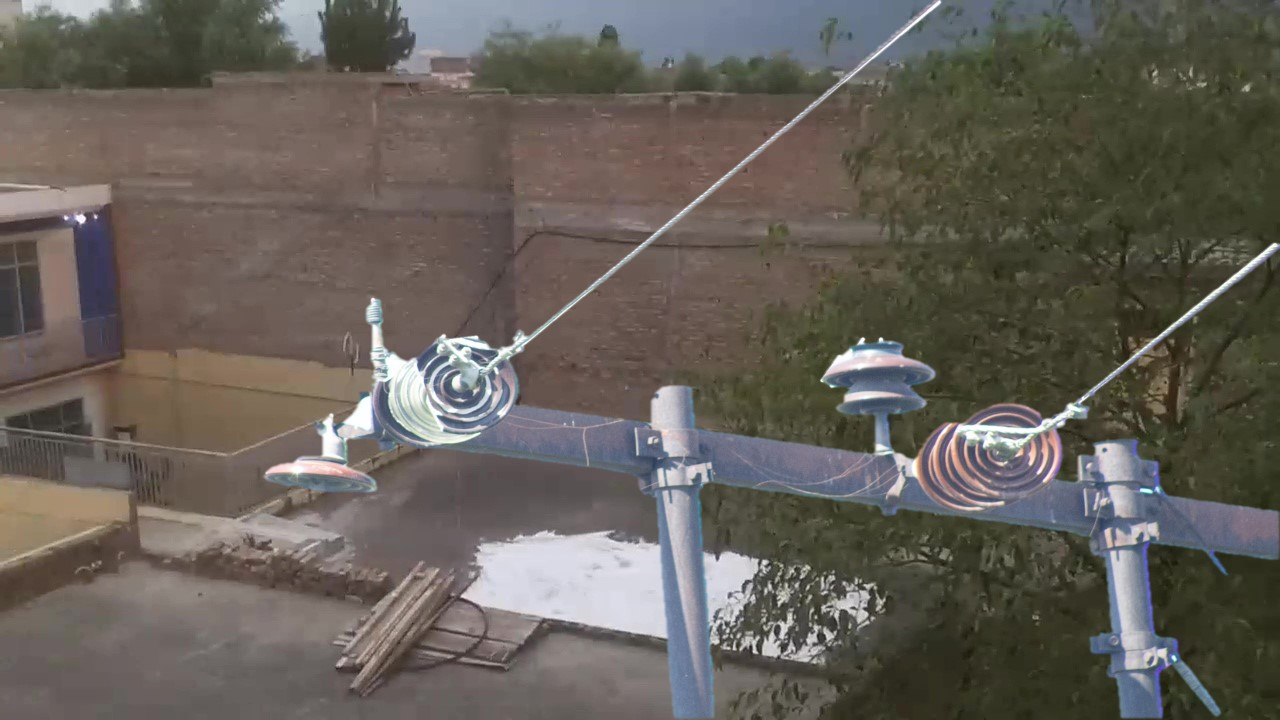defect_disc: (418, 327, 524, 439)
insulator_disc: (951, 397, 1063, 504), (257, 441, 386, 505)
